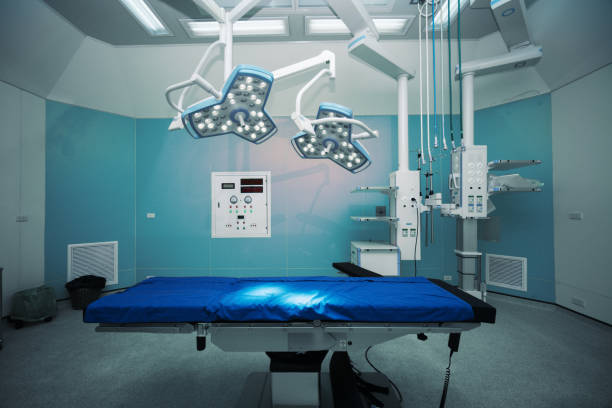door_handle: (15, 212, 28, 226)
drawer: (352, 246, 399, 277)
operating_bed: (85, 275, 505, 408)
surgical_light: (180, 65, 282, 148), (292, 101, 373, 177)
waste_bin: (7, 283, 58, 329), (65, 273, 105, 310)
